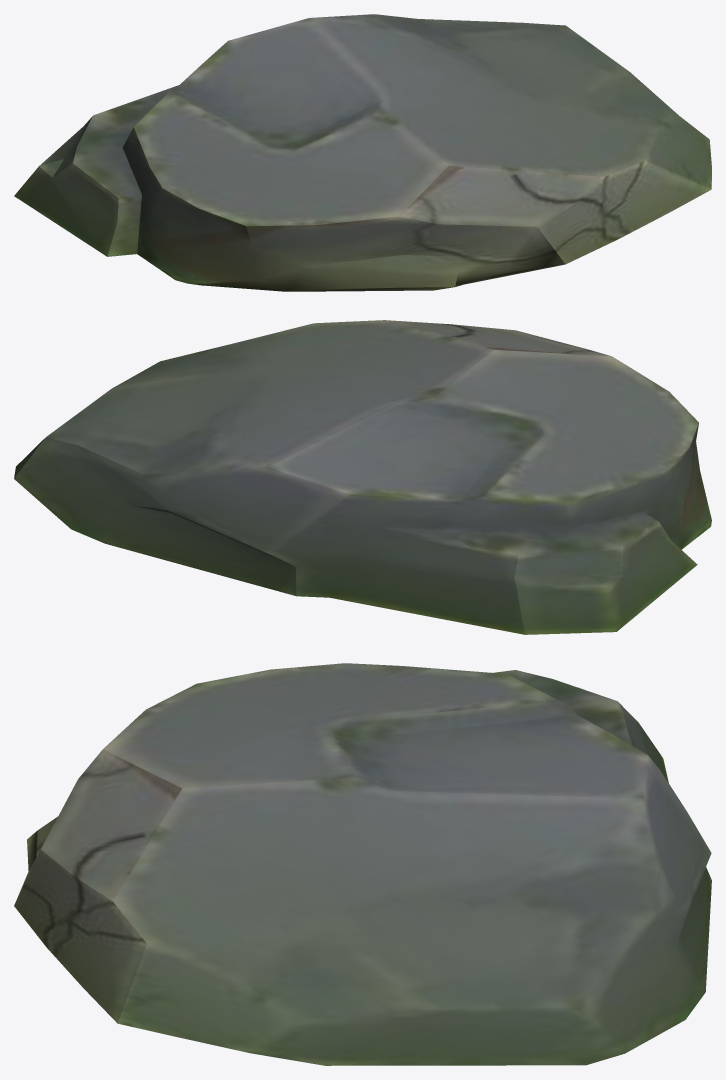
The model's file is rocha-laje.glb.
3 renders of one model, top to bottom at view 1: azimuth 30°, elevation 25°; view 2: azimuth 150°, elevation 25°; view 3: azimuth 270°, elevation 25°, orthographic. The views are drawn at different scales.
Bounding box in the file's own units: 4.57 × 0.7216 × 3.72.
Materials: 1 (1 with a texture image).
